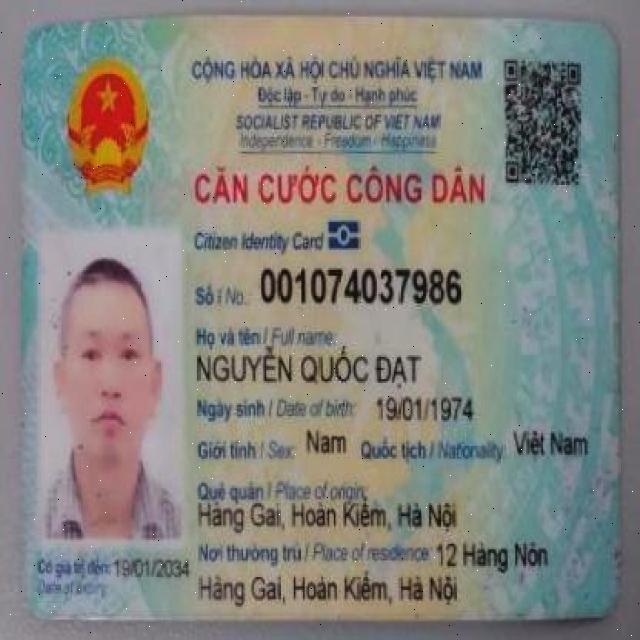current_place: (196, 567, 461, 612), (435, 535, 558, 575)
dob: (372, 391, 480, 428)
expire_date: (112, 551, 192, 586)
gender: (305, 426, 353, 460)
id: (257, 266, 462, 307)
name: (194, 344, 427, 390)
nationality: (508, 423, 594, 463)
origin_place: (196, 502, 459, 535)
qr: (496, 54, 592, 194)
